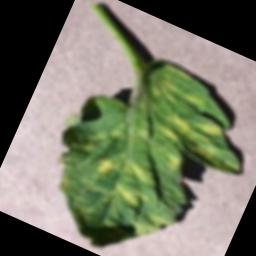Leaf_Mold: (132, 207, 176, 247), (152, 106, 195, 144), (110, 179, 156, 213), (119, 158, 160, 189), (192, 115, 228, 143), (93, 152, 124, 182), (157, 150, 186, 177)
